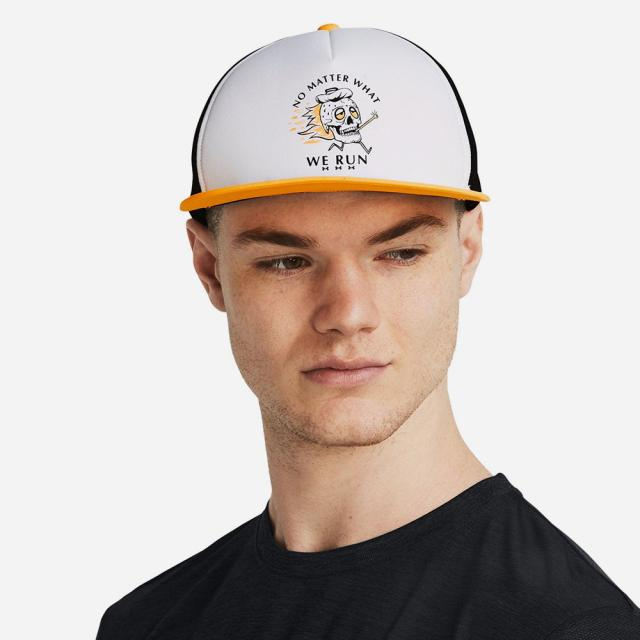Nonhelmet: (173, 11, 490, 458)
